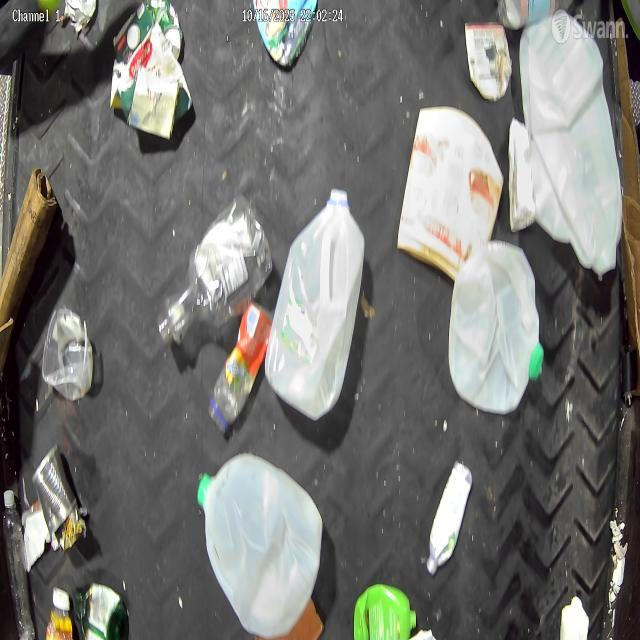can: (32, 444, 78, 538), (465, 19, 511, 103), (149, 0, 184, 60)
milk_jug: (518, 16, 624, 280), (195, 448, 325, 640), (262, 186, 366, 421), (447, 238, 545, 418)
plastic_bottle: (156, 194, 273, 348), (2, 487, 36, 640)
